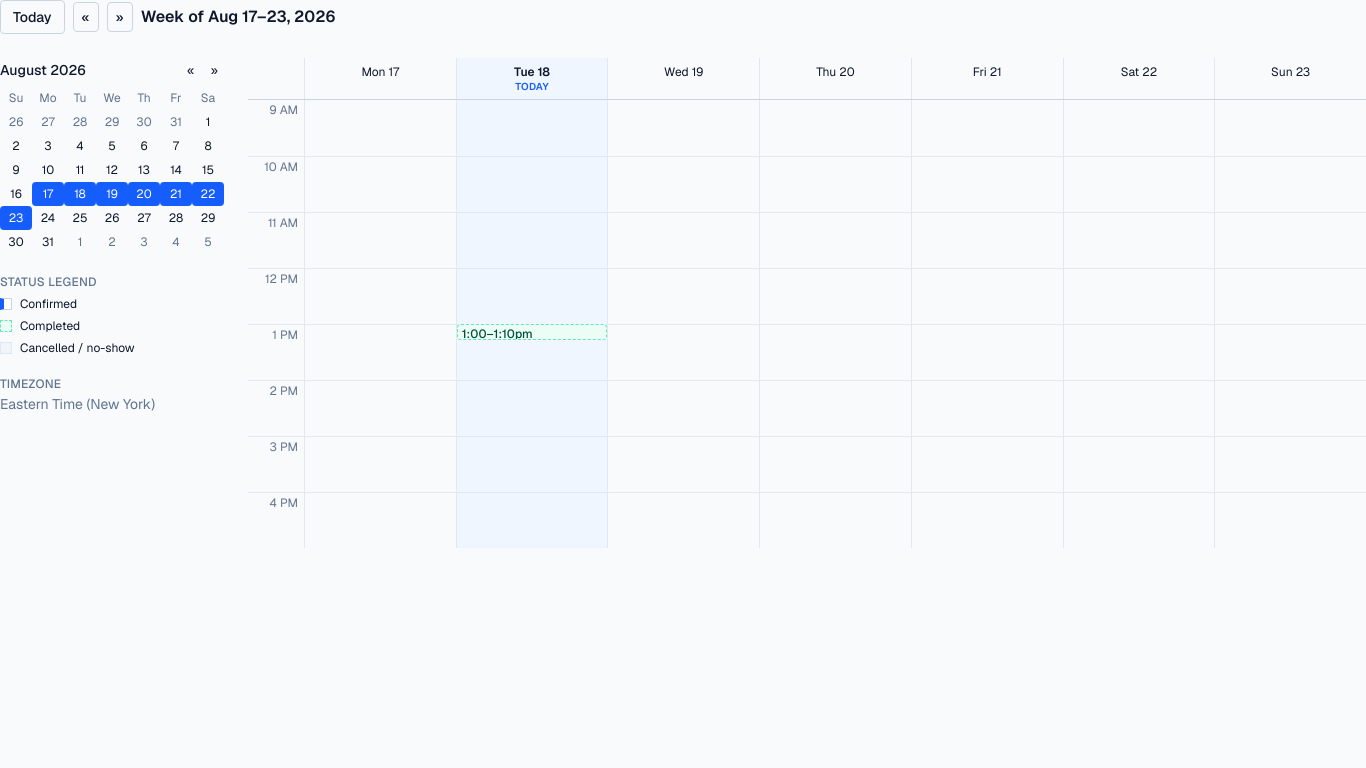
it: ProviderCalendar › shows no status actions in the popover for a closed (completed) booking
The image size is (1366, 768).
Click the button with aria-label "Lab Review with T. Kim, 1:00–1:10pm, COMPLETED" at coordinates (532, 332), box [457,324,607,340]
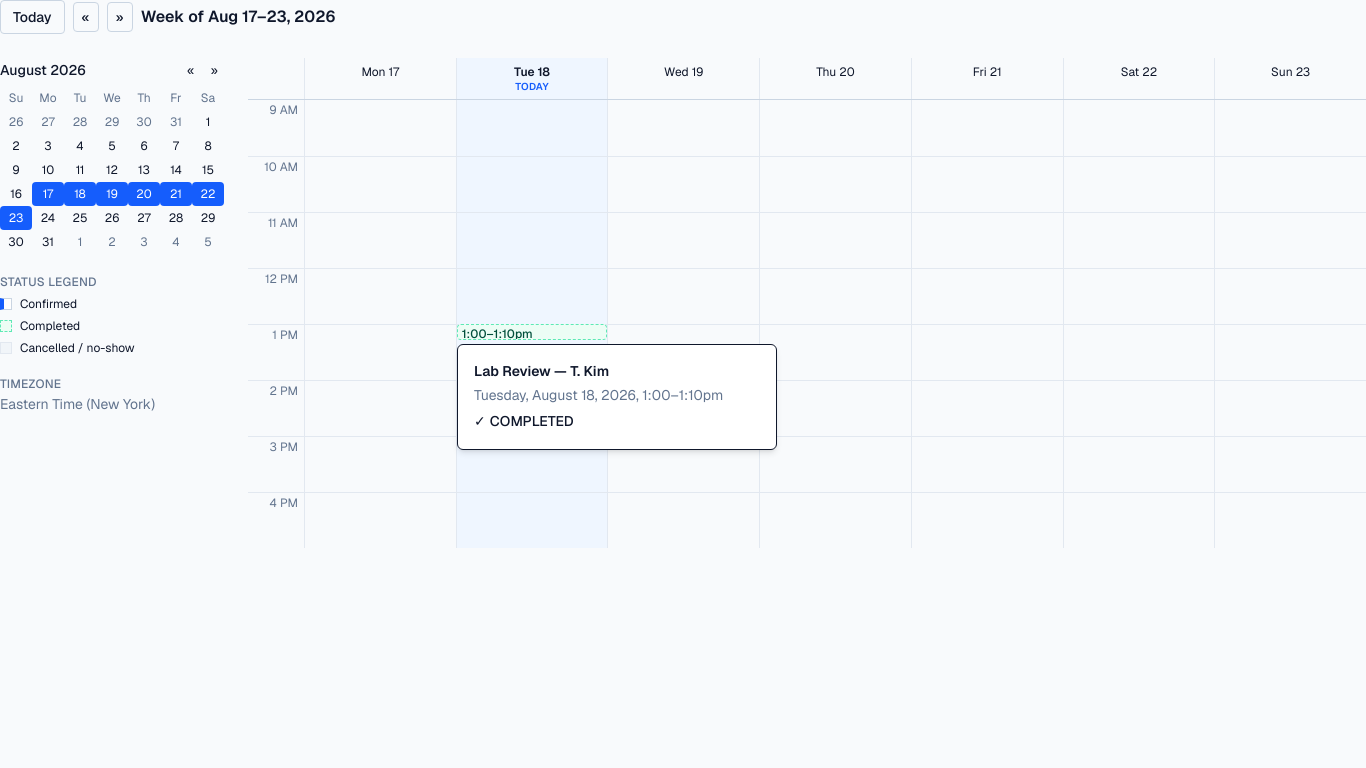
Expected: the text "COMPLETED" is shown, [490,412,574,430]
